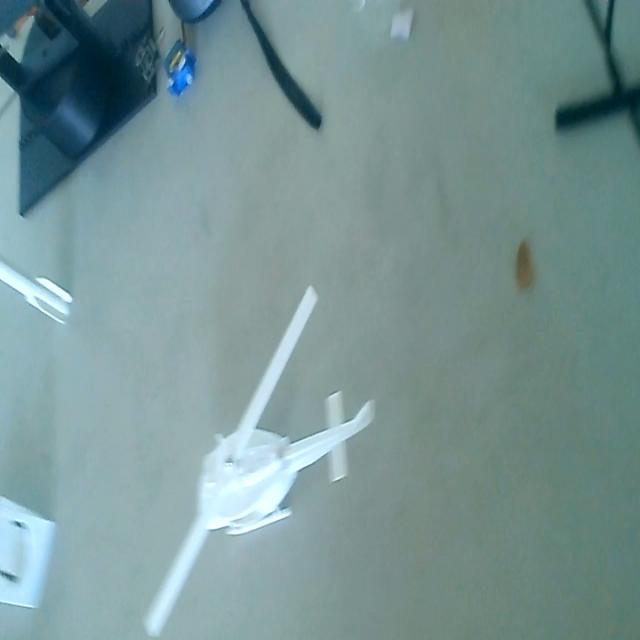Helicopter: (142, 287, 376, 634)
Rocket: (0, 243, 79, 334)
